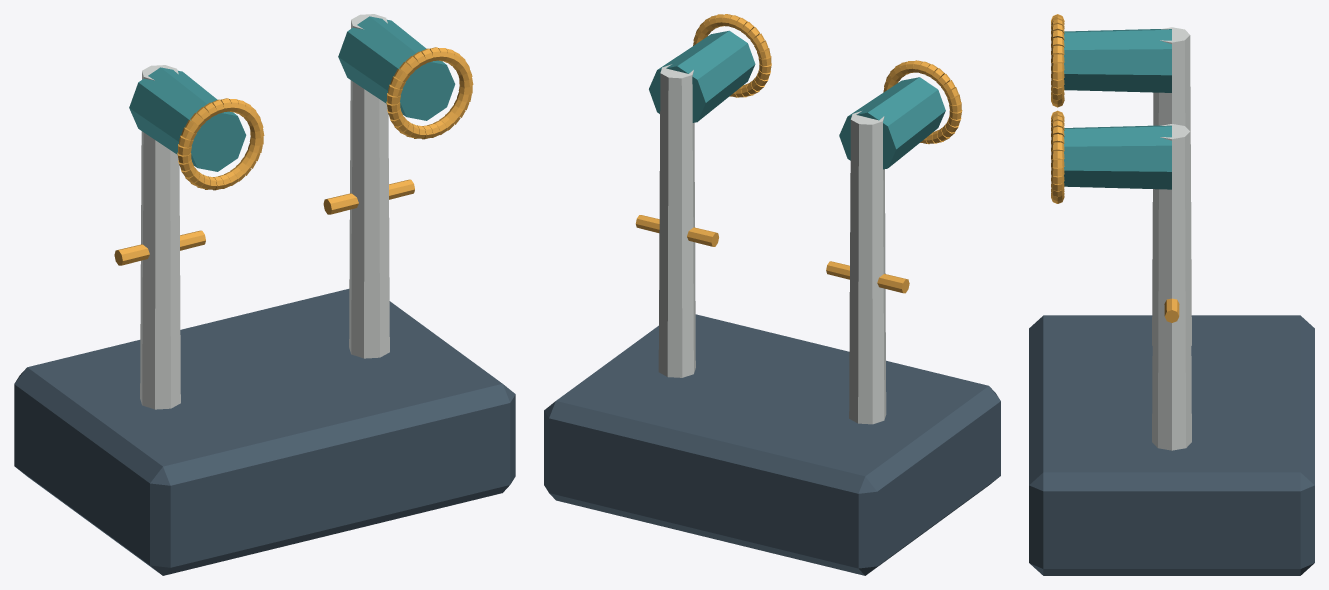
3 views of the same model, side by side, from view 1: azimuth 30°, elevation 25°; view 2: azimuth 150°, elevation 25°; view 3: azimuth 270°, elevation 25° (orthographic). The views are drawn at different scales.
Parts seen in each view (by area): view 1: ME-024 External fluid quick-coupling station batched; view 2: ME-024 External fluid quick-coupling station batched; view 3: ME-024 External fluid quick-coupling station batched.
Boxes of the visible parts, <box> form: ME-024 External fluid quick-coupling station batched: <box>14,14,515,575</box>; ME-024 External fluid quick-coupling station batched: <box>544,14,1000,575</box>; ME-024 External fluid quick-coupling station batched: <box>1029,14,1314,575</box>.
Size of the model in its own units: 0.7 by 0.8319 by 0.5.
